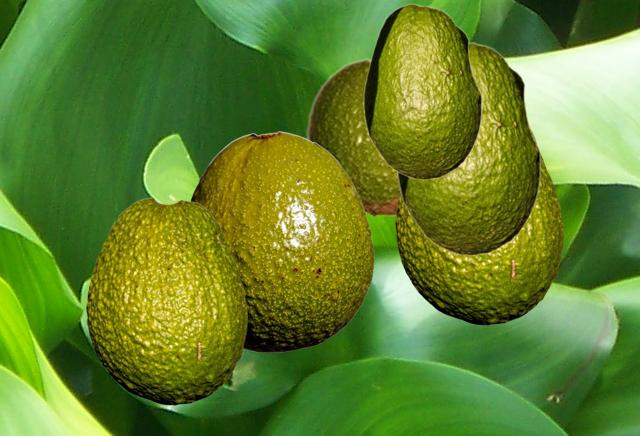avocado: (190, 131, 373, 351), (86, 197, 246, 404), (396, 39, 540, 255), (395, 153, 562, 324), (363, 3, 481, 179), (306, 57, 398, 216)
